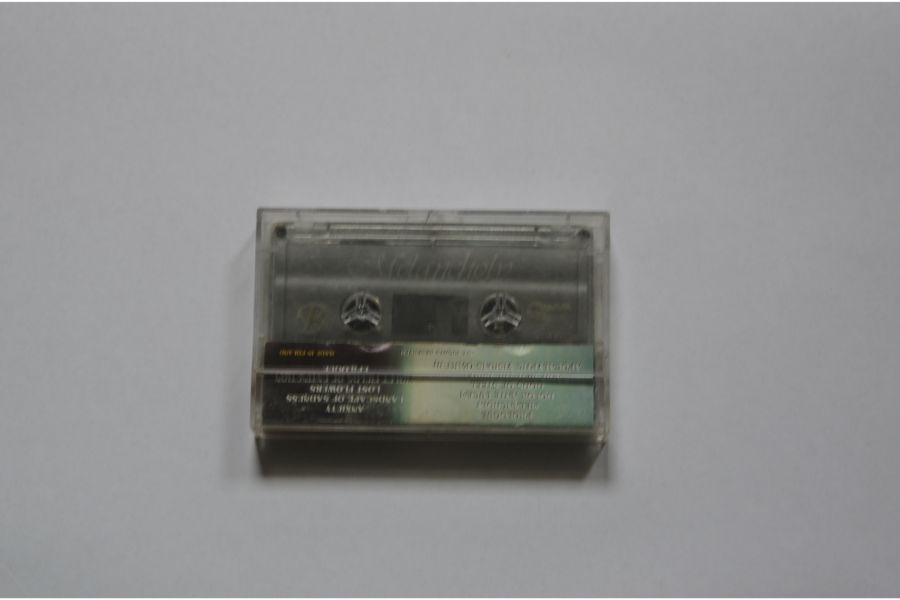album: (253, 204, 609, 447)
